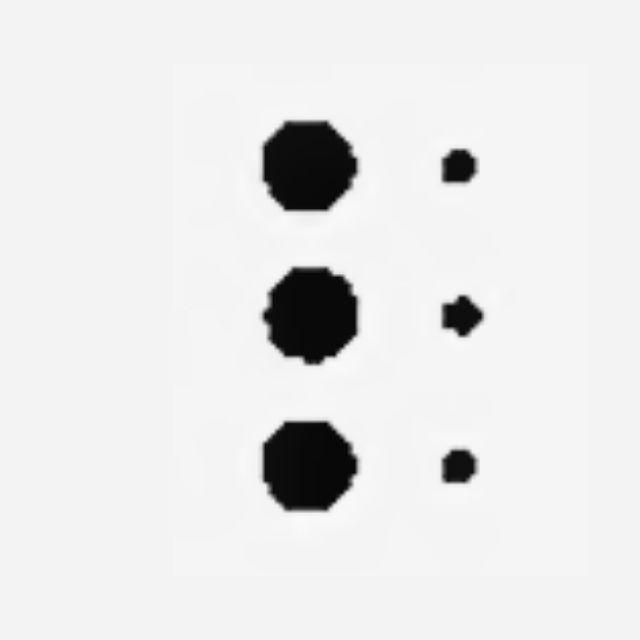lamang: (261, 122, 509, 515)
